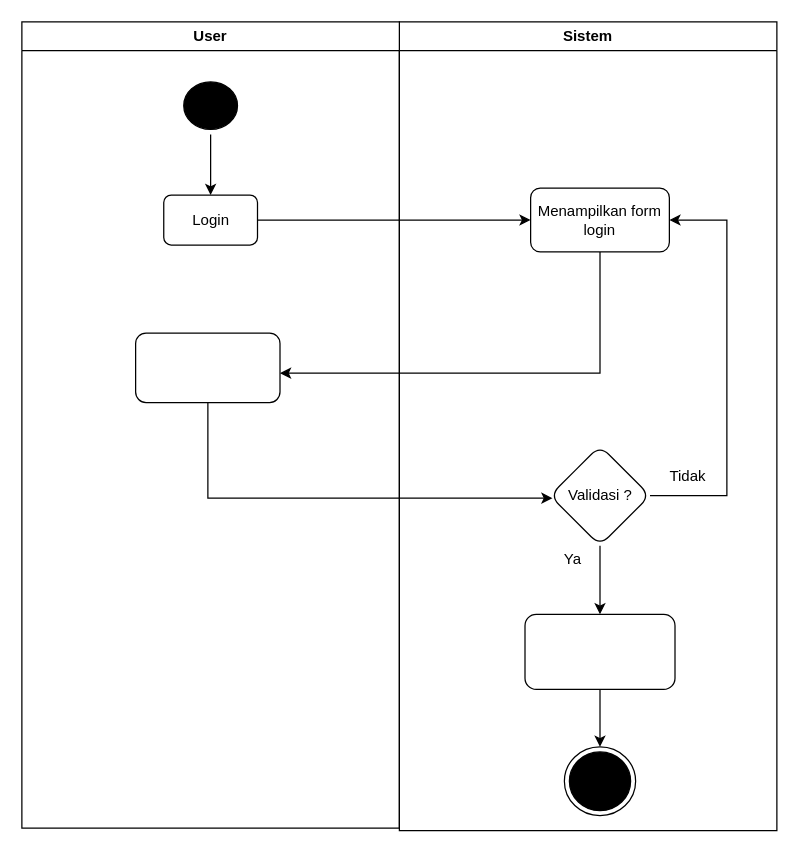
This 799x853 diagram has some shape labels left out. Here are the shapes that lost their labels. From the top down, the centre of each, then its label:
At [207,367]: "Input Email & Password".
At [599,651]: "Menampilkan halaman Dashboard".
